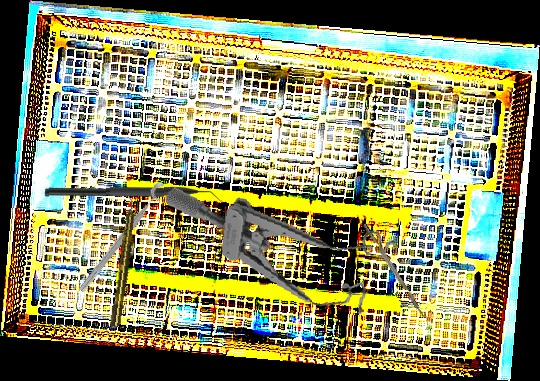Chopper: (362, 220, 432, 322), (43, 184, 227, 209)
Fixation Ring: (75, 179, 176, 300)
Handpiece: (109, 196, 139, 328)
Speculum: (154, 185, 398, 319)
